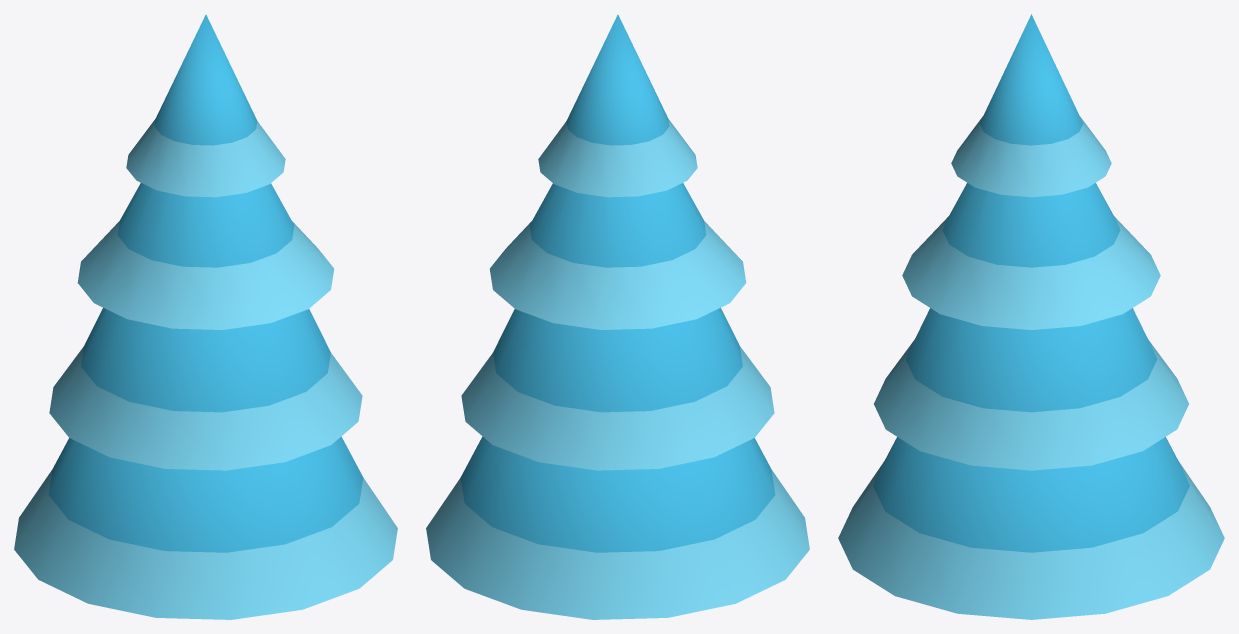
The model's file is RockModel2.fbx.
3 views of the same model, side by side, from view 1: azimuth 30°, elevation 25°; view 2: azimuth 150°, elevation 25°; view 3: azimuth 270°, elevation 25° (orthographic).
Parts seen in each view (by area): view 1: RockModel2; view 2: RockModel2; view 3: RockModel2.
Part boxes in pixels (box(x1,y1,x2,y2)): RockModel2: box(14, 14, 397, 619); RockModel2: box(426, 14, 809, 619); RockModel2: box(838, 14, 1224, 619).
Bounding box in the file's own units: 667 × 998 × 667.
